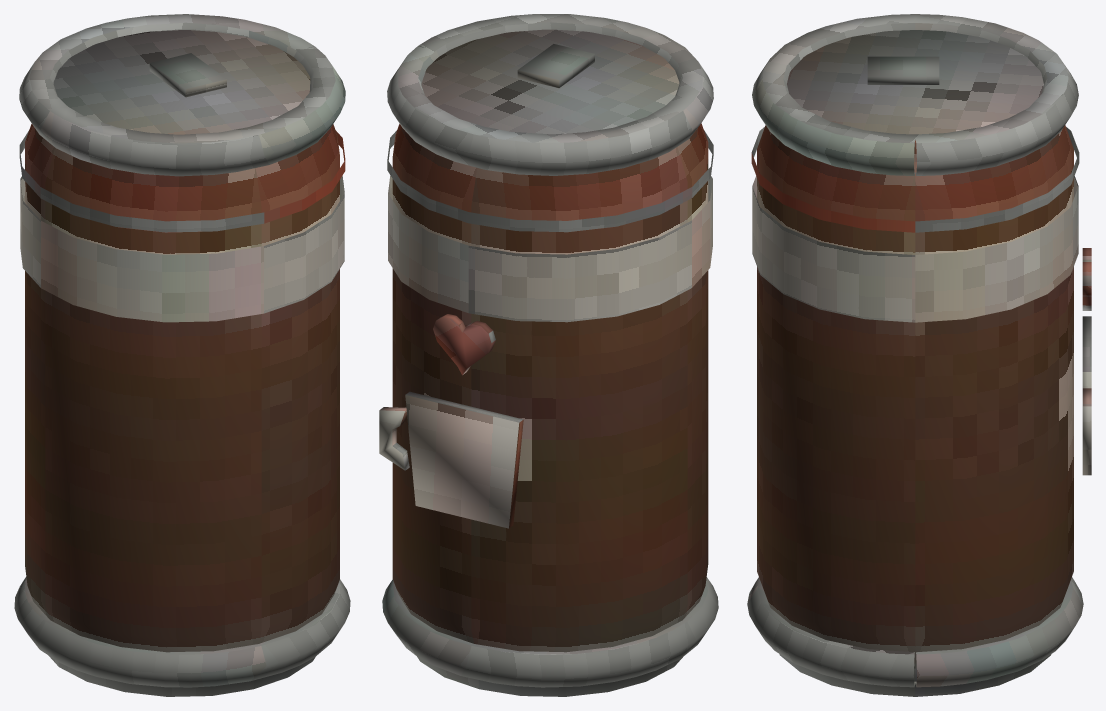
File: can_cocoa.glb
3 views of the same model, side by side, from view 1: azimuth 30°, elevation 25°; view 2: azimuth 150°, elevation 25°; view 3: azimuth 270°, elevation 25° (orthographic).
Visible parts, largest first — view 1: prop_can_cocoa_felt; view 2: prop_can_cocoa_felt; view 3: prop_can_cocoa_felt.
Part boxes in pixels (x1,y1,x2,y2): prop_can_cocoa_felt: (14, 14, 350, 696); prop_can_cocoa_felt: (379, 14, 718, 696); prop_can_cocoa_felt: (747, 14, 1091, 696).
Size of the model in its own units: 0.0844 by 0.1579 by 0.0865.
1 material, 1 textured.
